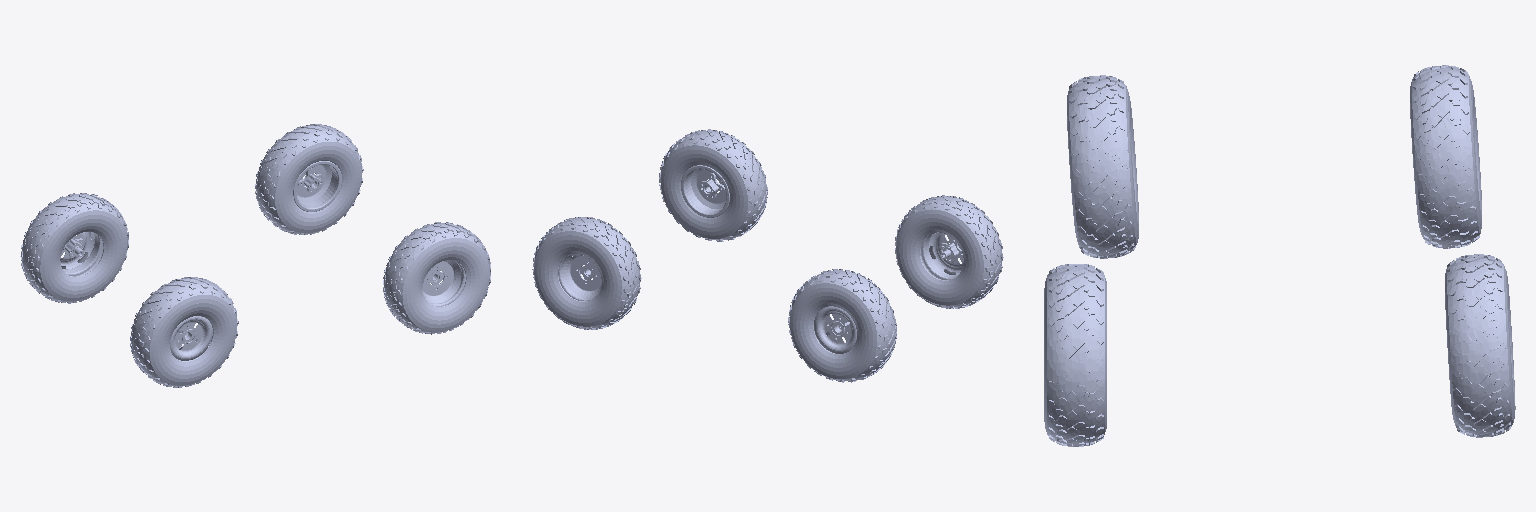
URDF robot description (vehicle):
<?xml version="1.0" encoding="utf-8"?>
<!-- This URDF was automatically created by SolidWorks to URDF Exporter! Originally created by [author] ([email redacted]) 
     Commit Version: 1.6.0-4-g7f85cfe  Build Version: 1.6.7995.38578
     For more information, please see http://wiki.ros.org/sw_urdf_exporter -->
<robot
  name="vehicle">
  <link
    name="base_link">
    <inertial>
      <origin
        xyz="0.36874 -0.0047437 0.26806"
        rpy="0 0 0" />
      <mass
        value="6.694" />
      <inertia
        ixx="0.11521"
        ixy="0.0013455"
        ixz="0.0041749"
        iyy="0.14404"
        iyz="0.0027363"
        izz="0.14178" />
    </inertial>
    <visual>
      <origin
        xyz="0 0 0"
        rpy="0 0 0" />
      <geometry>
        <mesh
          filename="package://vehicle/meshes/base_link.STL" />
      </geometry>
      <material
        name="">
        <color
          rgba="0.79216 0.81961 0.93333 1" />
      </material>
    </visual>
    <collision>
      <origin
        xyz="0 0 0"
        rpy="0 0 0" />
      <geometry>
        <mesh
          filename="package://vehicle/meshes/base_link.STL" />
      </geometry>
    </collision>
  </link>
  <link
    name="FRR">
    <inertial>
      <origin
        xyz="0.002094 0.025627 -0.0058788"
        rpy="0 0 0" />
      <mass
        value="5.8353" />
      <inertia
        ixx="0.16436"
        ixy="5.1439E-06"
        ixz="-8.652E-05"
        iyy="0.28026"
        iyz="0.00010784"
        izz="0.16392" />
    </inertial>
    <visual>
      <origin
        xyz="0 0 0"
        rpy="0 0 0" />
      <geometry>
        <mesh
          filename="package://vehicle/meshes/FRR.STL" />
      </geometry>
      <material
        name="">
        <color
          rgba="0.79216 0.81961 0.93333 1" />
      </material>
    </visual>
    <collision>
      <origin
        xyz="0 0 0"
        rpy="0 0 0" />
      <geometry>
        <mesh
          filename="package://vehicle/meshes/FRR.STL" />
      </geometry>
    </collision>
  </link>
  <joint
    name="JTFRR"
    type="revolute">
    <origin
      xyz="0.94782 -0.62743 -0.066342"
      rpy="0 -0.15703 0" />
    <parent
      link="base_link" />
    <child
      link="FRR" />
    <axis
      xyz="0 1 0" />
    <limit
      lower="0"
      upper="0"
      effort="10"
      velocity="10" />
  </joint>
  <link
    name="FRL">
    <inertial>
      <origin
        xyz="0.0051142 -0.025627 -0.0035762"
        rpy="0 0 0" />
      <mass
        value="5.8353" />
      <inertia
        ixx="0.16391"
        ixy="0.00010536"
        ixz="3.7108E-05"
        iyy="0.28026"
        iyz="-2.3603E-05"
        izz="0.16437" />
    </inertial>
    <visual>
      <origin
        xyz="0 0 0"
        rpy="0 0 0" />
      <geometry>
        <mesh
          filename="package://vehicle/meshes/FRL.STL" />
      </geometry>
      <material
        name="">
        <color
          rgba="0.79216 0.81961 0.93333 1" />
      </material>
    </visual>
    <collision>
      <origin
        xyz="0 0 0"
        rpy="0 0 0" />
      <geometry>
        <mesh
          filename="package://vehicle/meshes/FRL.STL" />
      </geometry>
    </collision>
  </link>
  <joint
    name="JTFRL"
    type="revolute">
    <origin
      xyz="0.94525 0.63885 -0.035217"
      rpy="0.060377 -0.15703 0" />
    <parent
      link="base_link" />
    <child
      link="FRL" />
    <axis
      xyz="-3.4855E-05 -1 0" />
    <limit
      lower="0"
      upper="0"
      effort="10"
      velocity="10" />
  </joint>
  <link
    name="BKL">
    <inertial>
      <origin
        xyz="4.9355E-05 -0.043014 -0.003259"
        rpy="0 0 0" />
      <mass
        value="7.1252" />
      <inertia
        ixx="0.18572"
        ixy="1.2265E-08"
        ixz="-6.0923E-08"
        iyy="0.319"
        iyz="0.0098429"
        izz="0.18645" />
    </inertial>
    <visual>
      <origin
        xyz="0 0 0"
        rpy="0 0 0" />
      <geometry>
        <mesh
          filename="package://vehicle/meshes/BKL.STL" />
      </geometry>
      <material
        name="">
        <color
          rgba="0.79216 0.81961 0.93333 1" />
      </material>
    </visual>
    <collision>
      <origin
        xyz="0 0 0"
        rpy="0 0 0" />
      <geometry>
        <mesh
          filename="package://vehicle/meshes/BKL.STL" />
      </geometry>
    </collision>
  </link>
  <joint
    name="JTBKL"
    type="revolute">
    <origin
      xyz="-0.4541 0.5747 -0.037943"
      rpy="0 0 0.0040438" />
    <parent
      link="base_link" />
    <child
      link="BKL" />
    <axis
      xyz="4.2546E-05 0.99728 0.073655" />
    <limit
      lower="0"
      upper="0"
      effort="10"
      velocity="10" />
    <dynamics
      damping="0.1"
      friction="0.1" />
  </joint>
  <link
    name="BKR">
    <inertial>
      <origin
        xyz="-9.3176E-05 0.043018 0.0031994"
        rpy="0 0 0" />
      <mass
        value="7.1252" />
      <inertia
        ixx="0.18572"
        ixy="7.2787E-09"
        ixz="-5.8422E-08"
        iyy="0.319"
        iyz="0.0098429"
        izz="0.18645" />
    </inertial>
    <visual>
      <origin
        xyz="0 0 0"
        rpy="0 0 0" />
      <geometry>
        <mesh
          filename="package://vehicle/meshes/BKR.STL" />
      </geometry>
      <material
        name="">
        <color
          rgba="0.79216 0.81961 0.93333 1" />
      </material>
    </visual>
    <collision>
      <origin
        xyz="0 0 0"
        rpy="0 0 0" />
      <geometry>
        <mesh
          filename="package://vehicle/meshes/BKR.STL" />
      </geometry>
    </collision>
  </link>
  <joint
    name="JTBKR"
    type="revolute">
    <origin
      xyz="-0.44539 -0.58457 -0.075276"
      rpy="0 0 0.0040438" />
    <parent
      link="base_link" />
    <child
      link="BKR" />
    <axis
      xyz="-4.2546E-05 -0.99728 -0.073655" />
    <limit
      lower="0"
      upper="0"
      effort="10"
      velocity="10" />
    <dynamics
      damping="0.1"
      friction="0.1" />
  </joint>
  
  <!-- Gazebo plugin for Ackermann control -->
  <gazebo>
    <plugin name="ackermann_steering" filename="libgazebo_ros_steering_control.so">
      <ros2_control>
        <!-- Replace these joint names with the actual names in your URDF -->
        <joint name="JTFRR"/>
        <joint name="JTFRL"/>
        <joint name="JTBKL"/>
        <joint name="JTBKR"/>
        <!-- Topic to receive AckermannDrive commands -->
        <command_topic>/cmd_ackermann</command_topic>
      </ros2_control>
    </plugin>
  </gazebo>
</robot>

--- Facts derived from the render (not from the file) ---
Views: 3 orthographic renders of the robot side by side, from view 1: azimuth 30°, elevation 25°; view 2: azimuth 150°, elevation 25°; view 3: azimuth 270°, elevation 25°.
Robot: vehicle — 5 links, 4 joints (4 revolute); root link base_link; default pose: every joint at zero.
Visible links, largest first — view 1: FRR, FRL, BKR, BKL; view 2: BKL, FRL, BKR, FRR; view 3: BKL, BKR, FRL, FRR.
Link boxes in pixels (x1=…): FRR: x1=383, y1=222, x2=490, y2=334; FRL: x1=255, y1=124, x2=363, y2=234; BKR: x1=130, y1=277, x2=238, y2=387; BKL: x1=20, y1=193, x2=128, y2=303; BKL: x1=788, y1=269, x2=896, y2=382; FRL: x1=532, y1=217, x2=641, y2=329; BKR: x1=895, y1=195, x2=1003, y2=308; FRR: x1=659, y1=129, x2=767, y2=241; BKL: x1=1410, y1=65, x2=1481, y2=248; BKR: x1=1067, y1=75, x2=1138, y2=258; FRL: x1=1445, y1=254, x2=1515, y2=437; FRR: x1=1044, y1=264, x2=1106, y2=446.
Size in the robot's own frame: 1.97 by 1.47 by 0.606 metres.
Meshes: 5 distinct files referenced, 4 mesh visuals loaded (4 binary STL); not drawn: 1 (reference not matched to a file when rendering).
